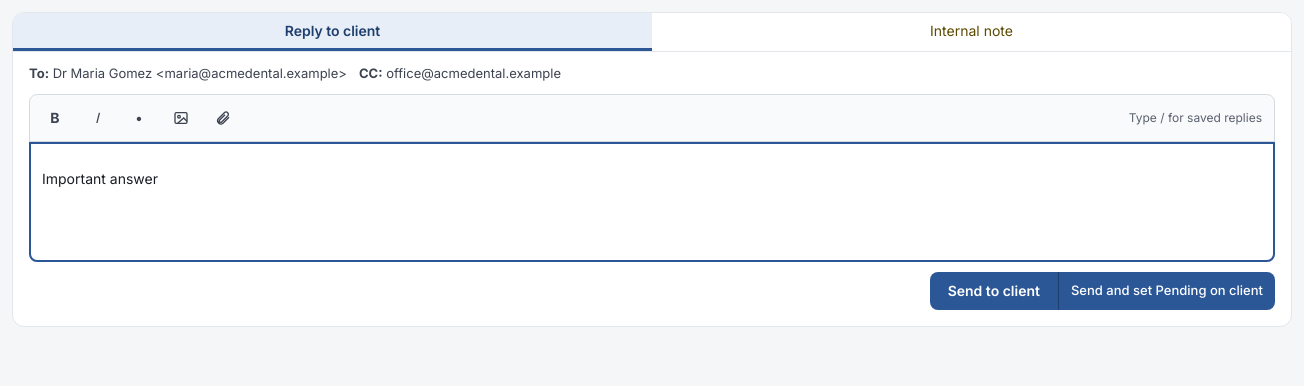
Composer › a send that fails shows the error and keeps the draft
Click the button "Send to client".
click(994, 290)  # box x1=930 y1=272 x2=1058 y2=310
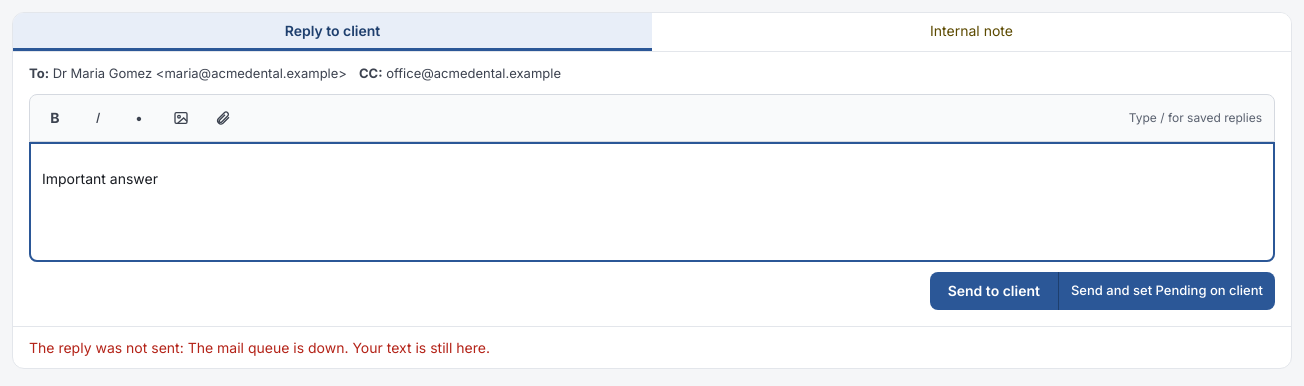
Expected: the message reads "The reply was not sent: The mail queue is down. Your text is still here.", x1=29 y1=338 x2=490 y2=356
